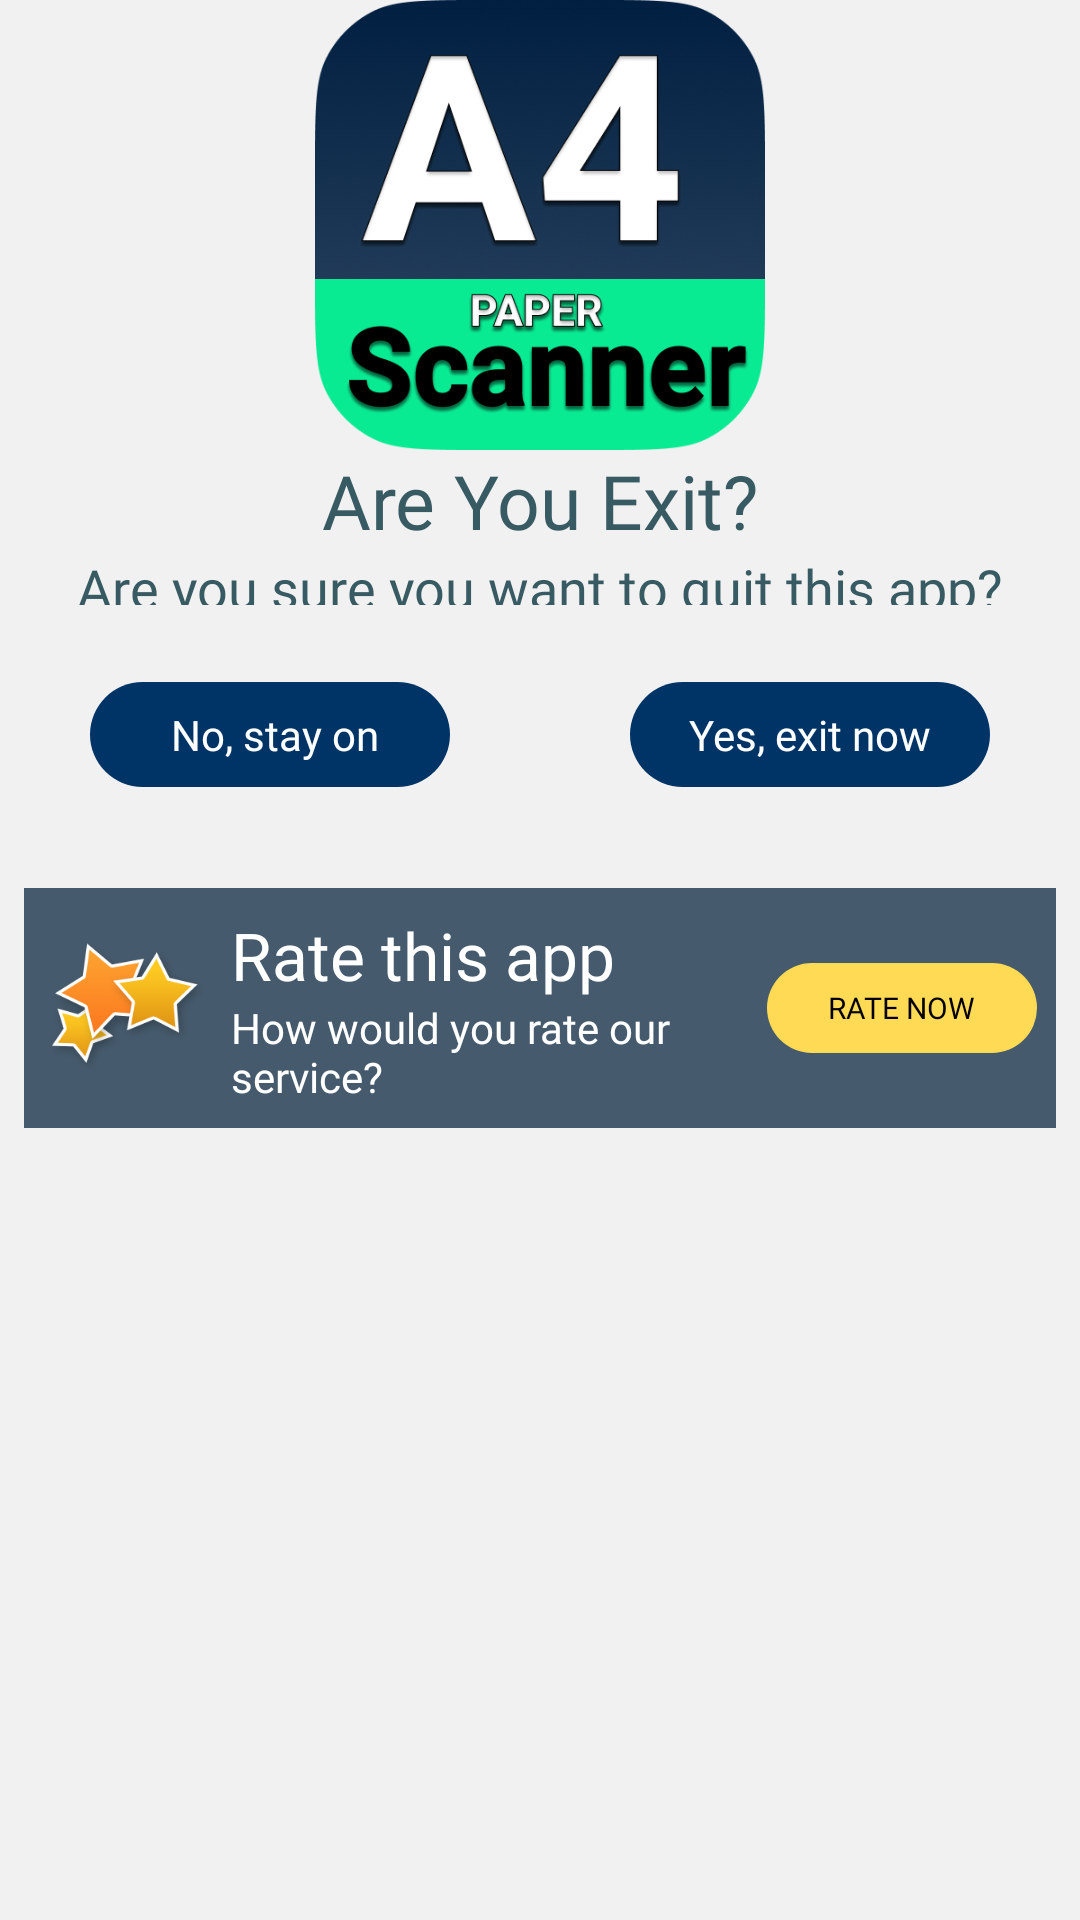

Icon bounding boxes for this 1080 × 1920 phone screenshot, format (x1, y1, x2, y2):
rate star: (52, 943, 198, 1063)
